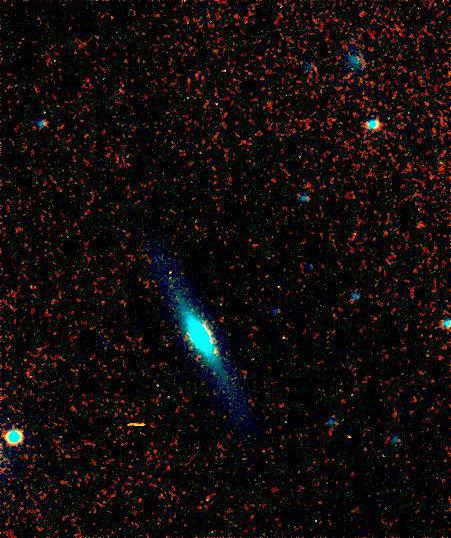star: (200, 338, 230, 368)
